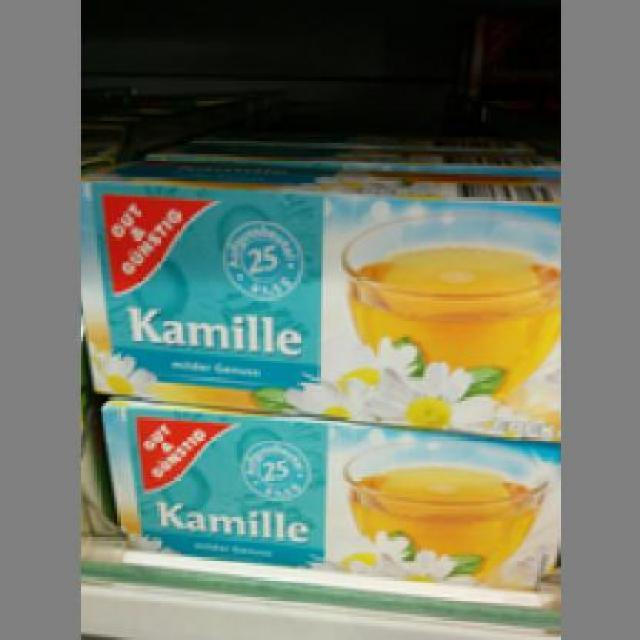Tea: (77, 154, 554, 440), (94, 396, 557, 590)
